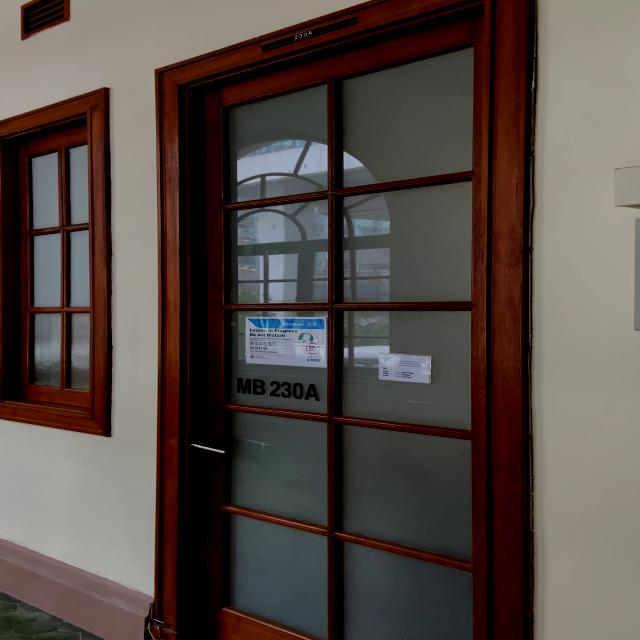room230A: (290, 28, 316, 42)
room230AWindow: (233, 374, 322, 402)
